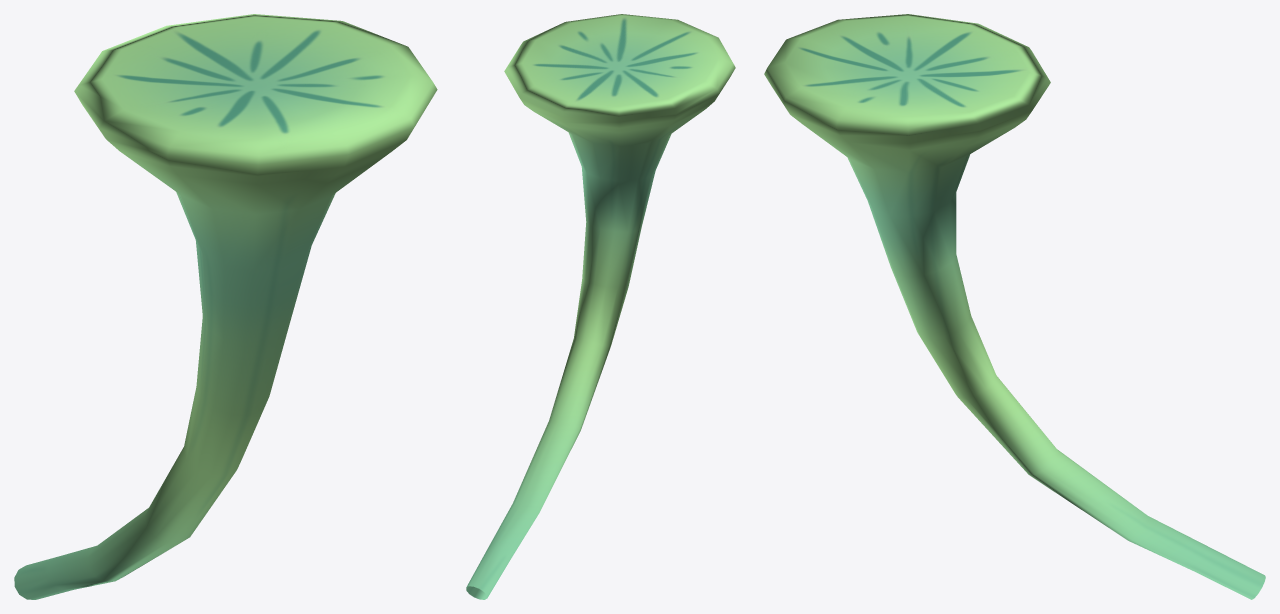
The model's file is GiantCurniculus_04.fbx.
3 views of the same model, side by side, from view 1: azimuth 30°, elevation 25°; view 2: azimuth 150°, elevation 25°; view 3: azimuth 270°, elevation 25° (orthographic). The views are drawn at different scales.
Parts seen in each view (by area): view 1: GiantCurniculus_04; view 2: GiantCurniculus_04; view 3: GiantCurniculus_04.
Part boxes in pixels (x1=…): GiantCurniculus_04: x1=14, y1=14, x2=437, y2=599; GiantCurniculus_04: x1=466, y1=14, x2=735, y2=599; GiantCurniculus_04: x1=764, y1=14, x2=1265, y2=599.
Bounding box in the file's own units: 507 × 1071 × 909.
